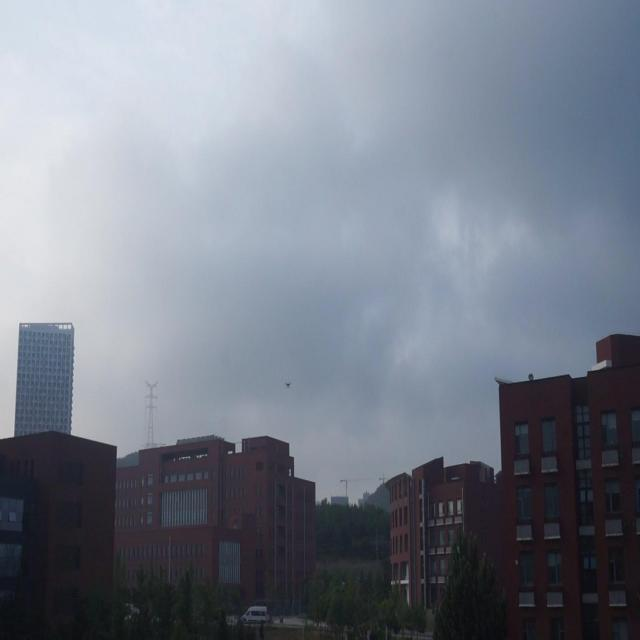UAV: (285, 381, 292, 388)
